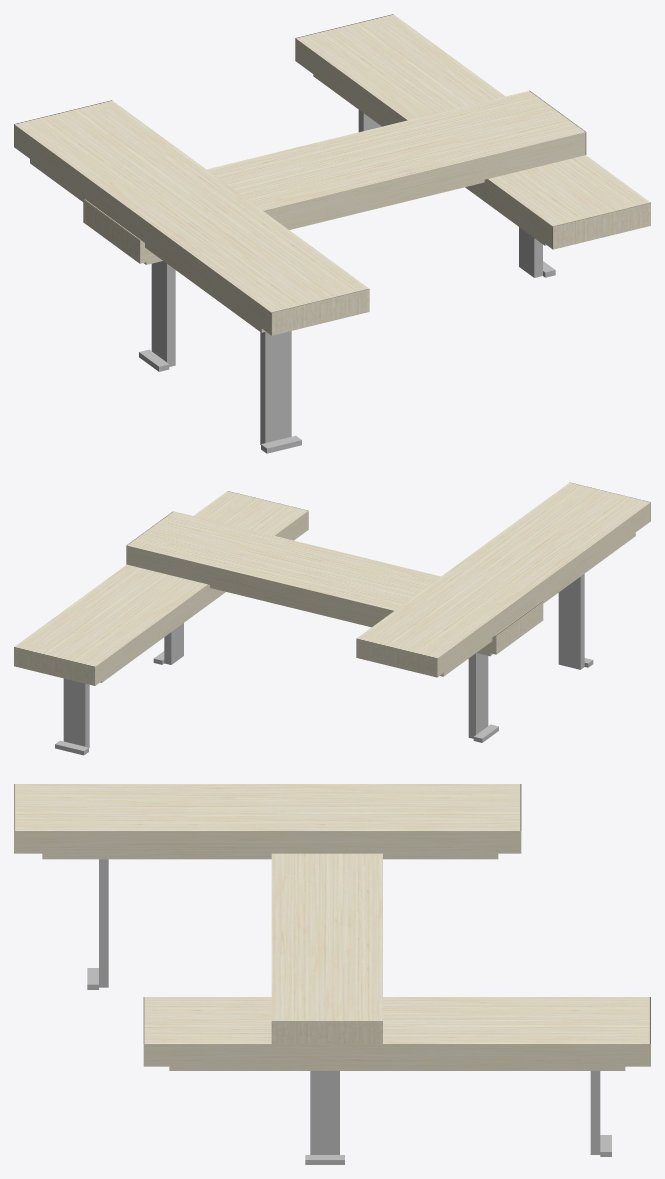
The model's file is wooden bench.fbx.
3 views of the same model, one above another, from view 1: azimuth 30°, elevation 25°; view 2: azimuth 150°, elevation 25°; view 3: azimuth 270°, elevation 25° (orthographic). The views are drawn at different scales.
Visible parts, largest first — view 1: pCube18, pCube19, pCube20, pCube22, pCube21, pCube23, pCube26, pCube27; view 2: pCube18, pCube19, pCube20, pCube22, pCube24, pCube21, pCube23, pCube27, pCube26; view 3: pCube18, pCube20, pCube19, pCube23, pCube26, pCube25, pCube22, pCube24.
Boxes of the visible parts, <box> form: pCube18: <box>14,100,369,335</box>; pCube19: <box>83,90,586,263</box>; pCube20: <box>295,14,650,249</box>; pCube22: <box>260,331,301,453</box>; pCube21: <box>139,261,175,371</box>; pCube23: <box>519,227,555,277</box>; pCube26: <box>30,159,265,332</box>; pCube27: <box>144,180,484,264</box>; pCube18: <box>356,482,650,677</box>; pCube19: <box>126,511,543,654</box>; pCube20: <box>14,491,308,685</box>; pCube22: <box>558,574,593,669</box>; pCube24: <box>55,678,89,755</box>; pCube21: <box>468,653,498,742</box>; pCube23: <box>153,623,183,664</box>; pCube27: <box>210,585,492,656</box>; pCube26: <box>440,533,635,676</box>; pCube18: <box>14,784,521,853</box>; pCube20: <box>143,997,650,1066</box>; pCube19: <box>271,853,382,1043</box>; pCube23: <box>305,1071,344,1164</box>; pCube26: <box>42,853,498,859</box>; pCube25: <box>169,1066,625,1070</box>; pCube22: <box>87,859,108,989</box>; pCube24: <box>590,1071,611,1156</box>.
Bounding box in the file's own units: 136 × 51.09 × 170.
